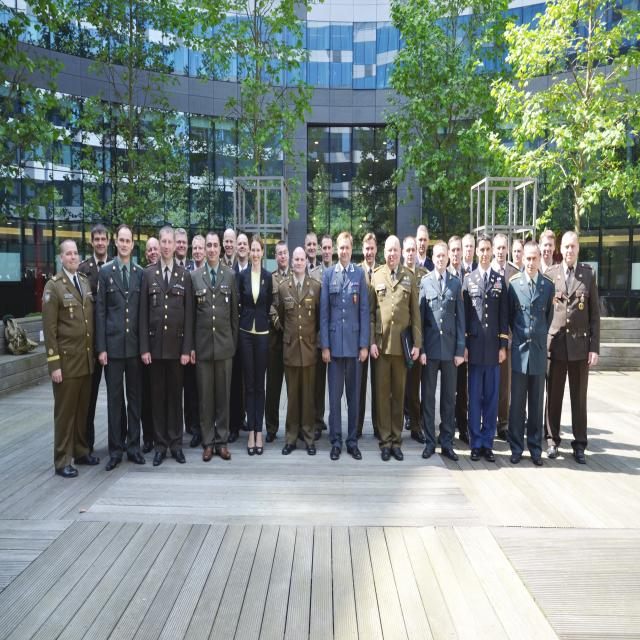body: (540, 228, 602, 467), (40, 237, 100, 479), (137, 224, 195, 468), (366, 232, 422, 462), (186, 228, 240, 464), (95, 222, 146, 471), (74, 223, 128, 457), (505, 239, 557, 468), (442, 420, 640, 480), (320, 232, 370, 460), (416, 239, 467, 462), (462, 233, 510, 464), (76, 225, 124, 454), (276, 245, 322, 457), (264, 240, 307, 442), (238, 232, 275, 458), (437, 236, 472, 446), (184, 234, 217, 448), (490, 232, 521, 443), (401, 235, 430, 445), (354, 233, 382, 441), (310, 233, 336, 441), (226, 232, 251, 444), (140, 236, 162, 454), (0, 253, 57, 322), (537, 230, 562, 276), (415, 223, 435, 273), (218, 228, 239, 271), (175, 227, 195, 268), (305, 232, 322, 277), (461, 233, 479, 272), (510, 238, 526, 274)
